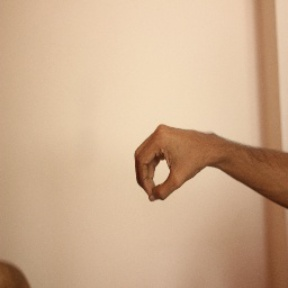O: (134, 119, 215, 205)
